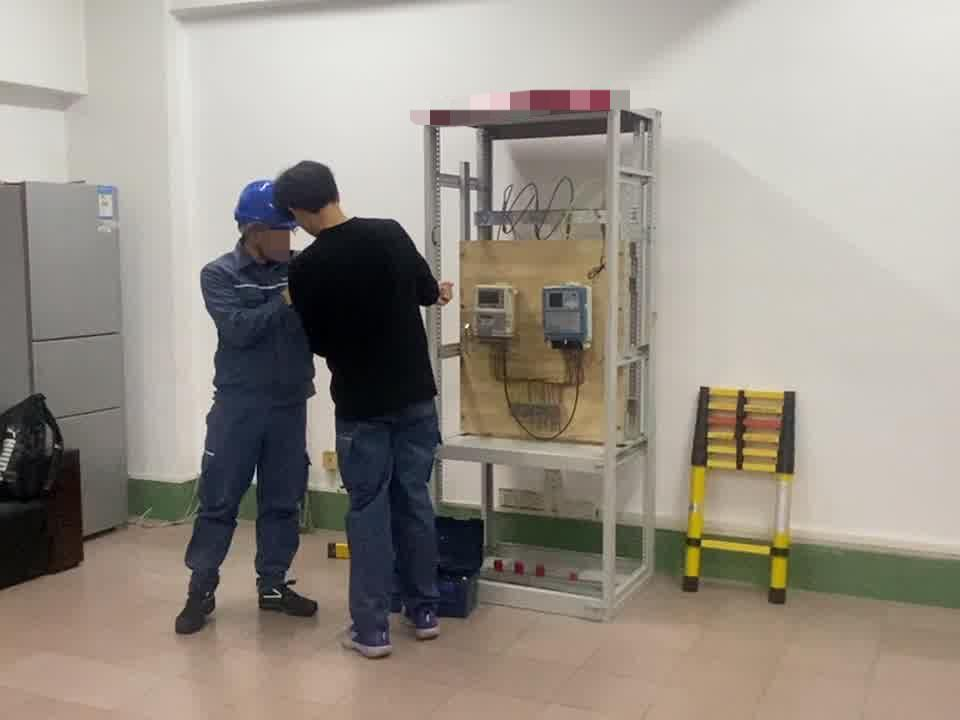halt: (233, 178, 300, 261)
unhalt: (276, 161, 346, 231)
